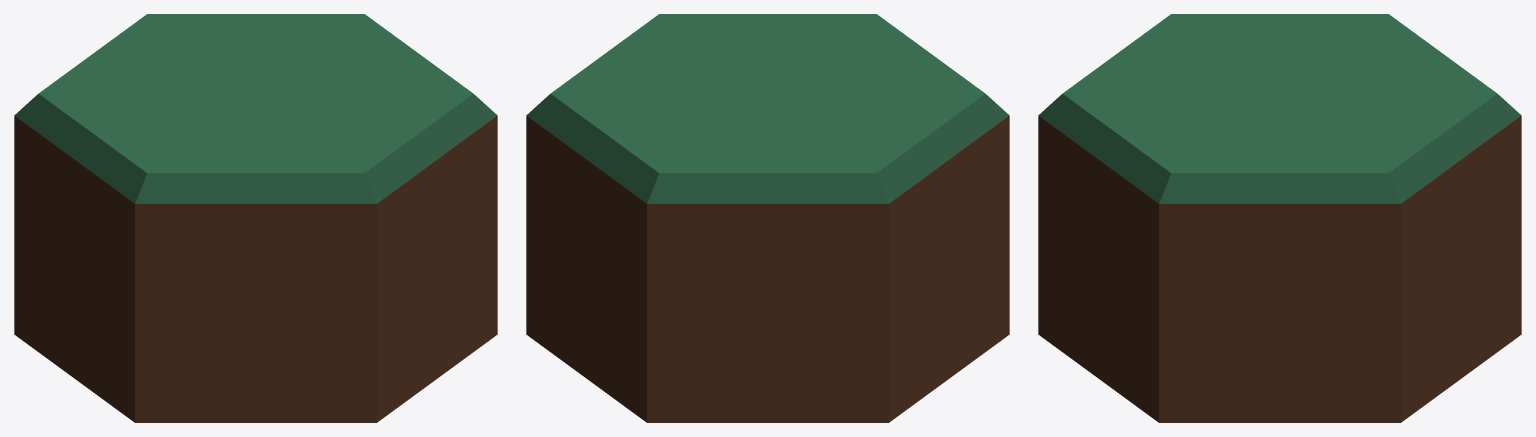
Rendered from Rock H0.fbx.
3 renders of one model, left to right at view 1: azimuth 30°, elevation 25°; view 2: azimuth 150°, elevation 25°; view 3: azimuth 270°, elevation 25°, orthographic.
Parts seen in each view (by area): view 1: Rock H0; view 2: Rock H0; view 3: Rock H0.
Boxes of the visible parts, x1,y1,x2,y2 form: Rock H0: (14, 14, 497, 422); Rock H0: (526, 14, 1009, 422); Rock H0: (1038, 14, 1521, 422).
Size of the model in its own units: 173 by 110 by 200.
